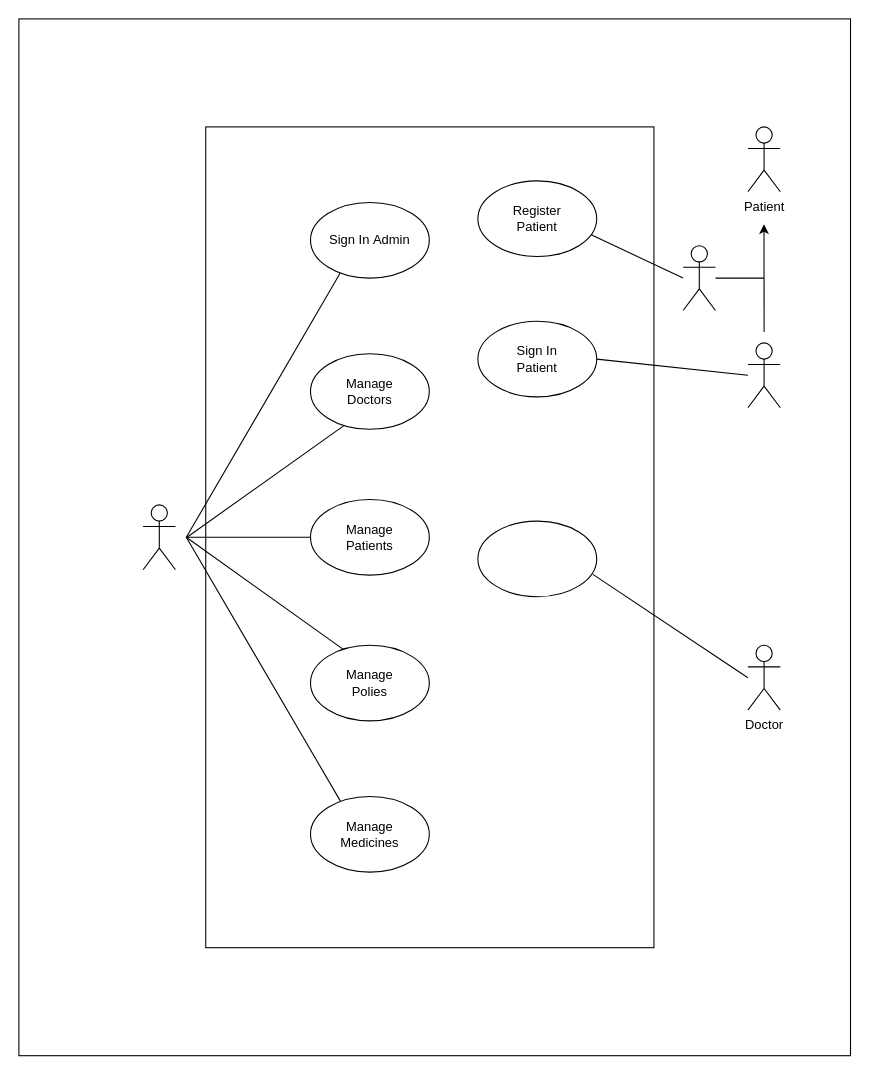
Some shapes in this 869 by 1075 pixel diagram are drawn without their labels. Here are the shapes that lost their labels. From the top down, the centre of each, then its label:
At (x=699, y=277): "Unregistered Patient".
At (x=763, y=375): "Registered Patient".
At (x=159, y=537): "Admin".
At (x=537, y=558): "Sign In Doctor".
